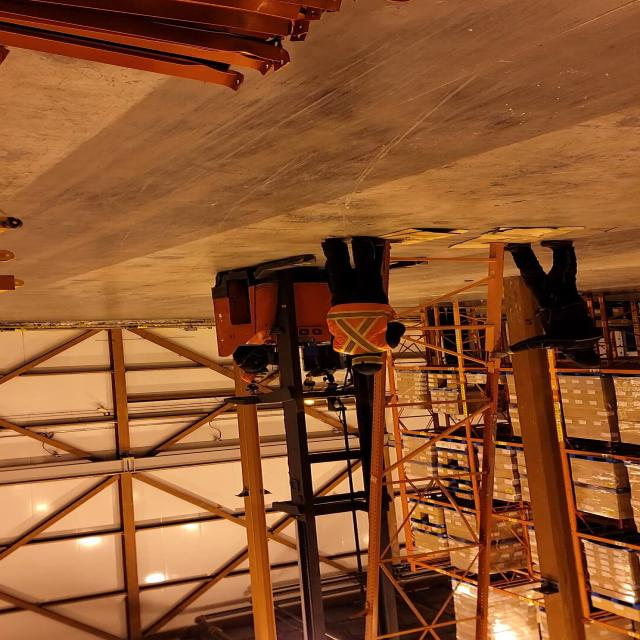forklift: (206, 252, 431, 518)
human: (492, 235, 607, 370), (315, 235, 408, 377), (222, 346, 284, 386)
objectofinterest: (358, 239, 528, 639), (447, 224, 588, 254), (352, 227, 471, 253)
